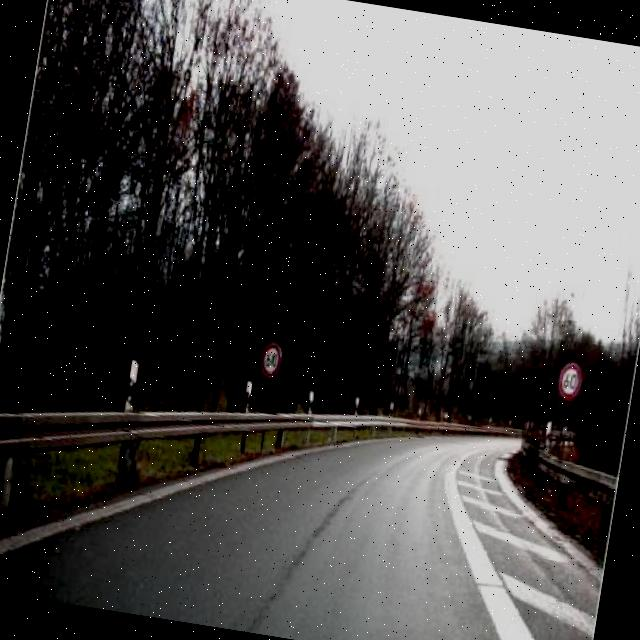Ograniczenie predkosci do 60: (554, 358, 587, 406), (256, 338, 285, 382)
